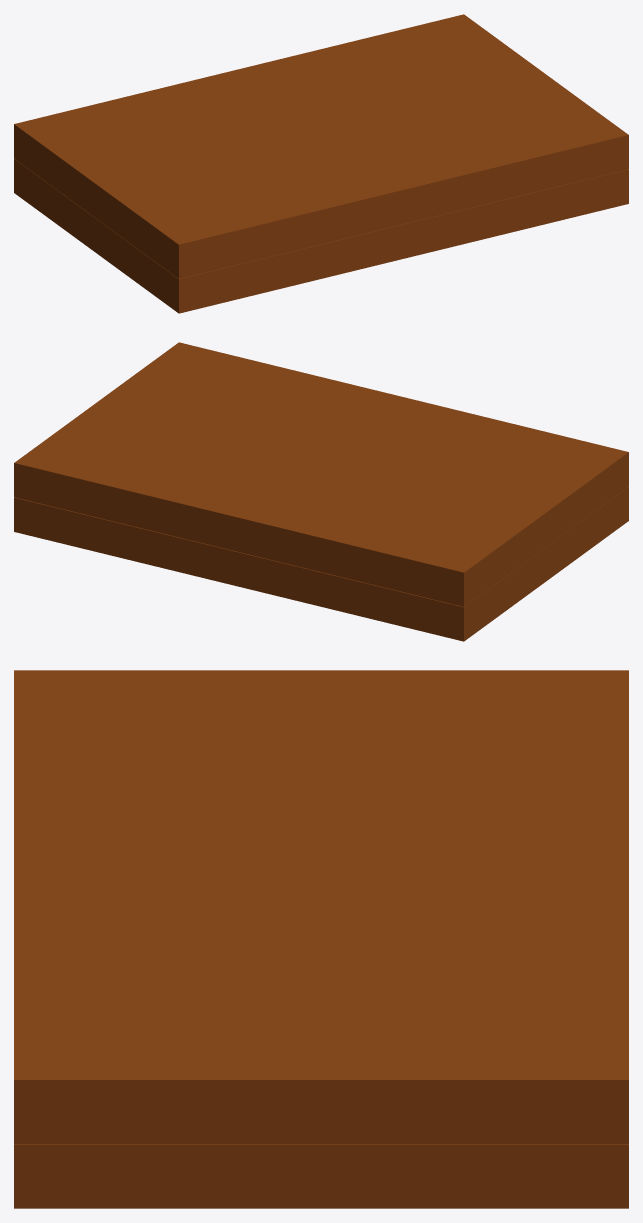
File: briefcase.fbx
The picture shows the model from 3 angles, top to bottom: view 1: azimuth 30°, elevation 25°; view 2: azimuth 150°, elevation 25°; view 3: azimuth 270°, elevation 25°; orthographic projection. The views are drawn at different scales.
Visible parts, largest first — view 1: Cube.001, Cube; view 2: Cube.001, Cube; view 3: Cube.001, Cube.
Part boxes in pixels (left/top/right/bottom): Cube.001: left=14, top=14, right=628, bottom=278; Cube: left=14, top=158, right=628, bottom=313; Cube.001: left=14, top=342, right=628, bottom=606; Cube: left=14, top=486, right=628, bottom=641; Cube.001: left=14, top=670, right=628, bottom=1143; Cube: left=14, top=1144, right=628, bottom=1208.
Size of the model in its own units: 466 by 68.14 by 295.
